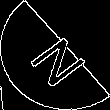N_NE: (20, 23, 90, 87)
